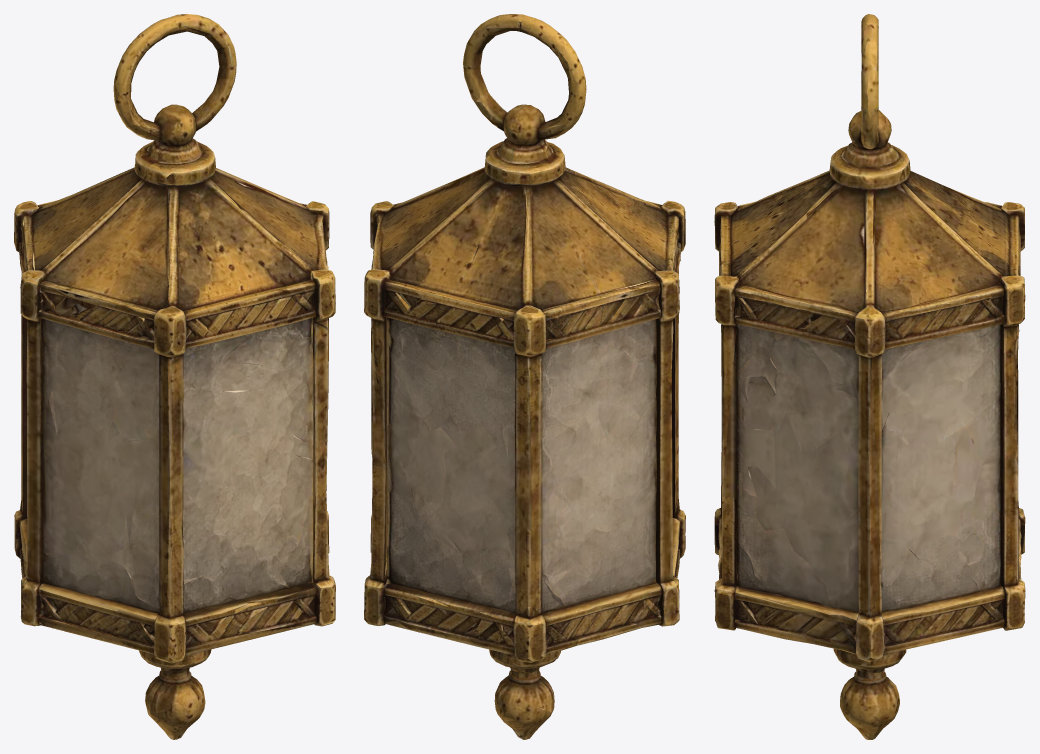
File: pavilion-lantern.glb
The picture shows the model from 3 angles, left to right: view 1: azimuth 30°, elevation 25°; view 2: azimuth 150°, elevation 25°; view 3: azimuth 270°, elevation 25°; orthographic projection.
Parts seen in each view (by area): view 1: Mesh_0; view 2: Mesh_0; view 3: Mesh_0.
Boxes of the visible parts, <box> form: Mesh_0: <box>14,14,335,739</box>; Mesh_0: <box>364,14,685,739</box>; Mesh_0: <box>714,14,1025,739</box>.
Size of the model in its own units: 0.8487 by 1.9 by 0.7469.
Materials: 1 (1 with a texture image).
